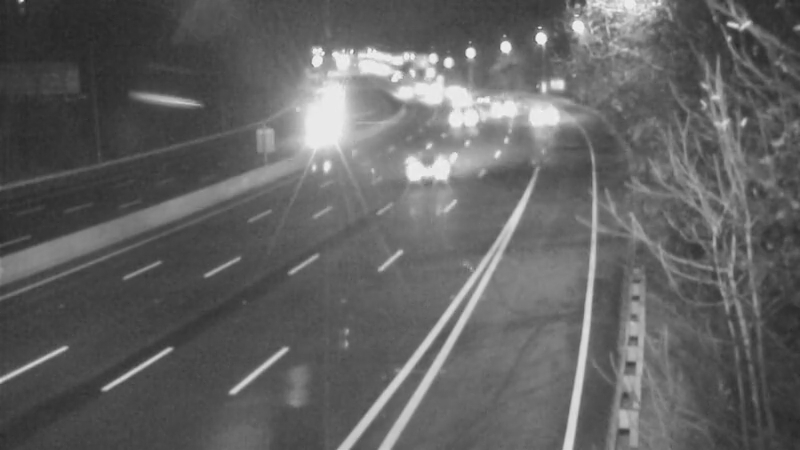vehicle: (383, 133, 463, 213), (402, 74, 452, 124), (432, 77, 482, 127), (458, 73, 508, 123), (481, 80, 531, 130), (429, 91, 479, 141), (513, 86, 563, 136), (298, 106, 348, 156)
